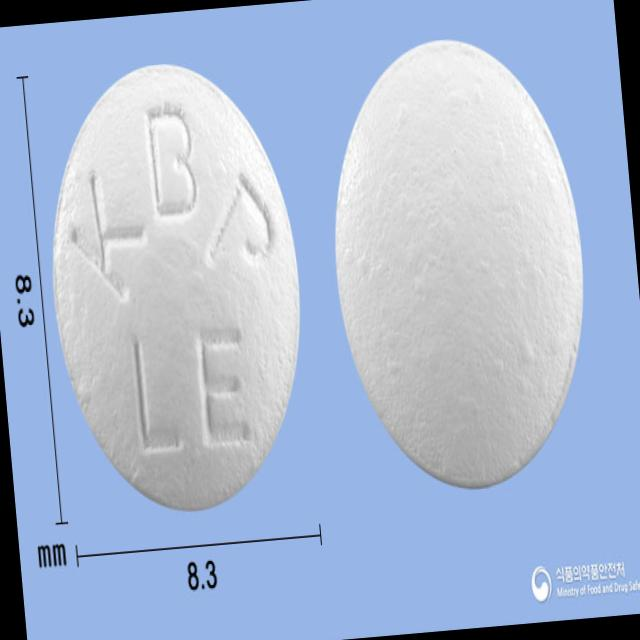Neobit Tab: (34, 52, 316, 519)
